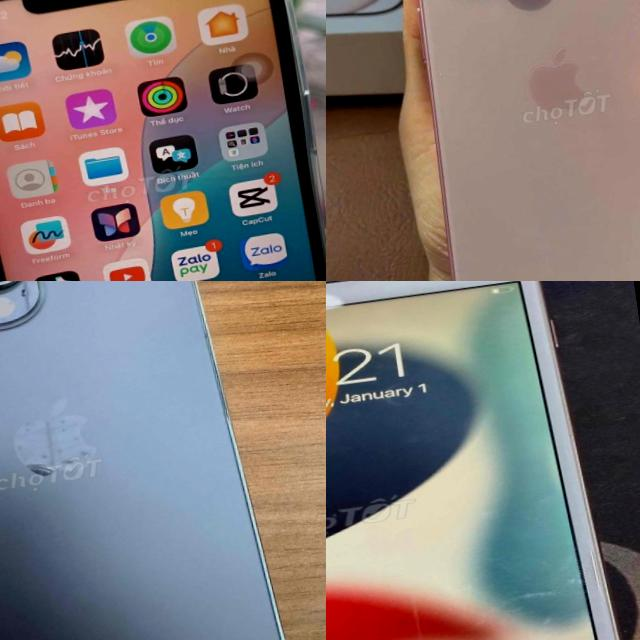gen_12_13: (0, 0, 326, 281)
gen_14: (0, 281, 321, 640)
gen_15: (377, 0, 640, 281)
gen_7_8: (326, 281, 640, 640)
scratch: (0, 383, 112, 505), (479, 572, 608, 640), (393, 580, 424, 640)
screen_defect: (326, 284, 351, 322)
